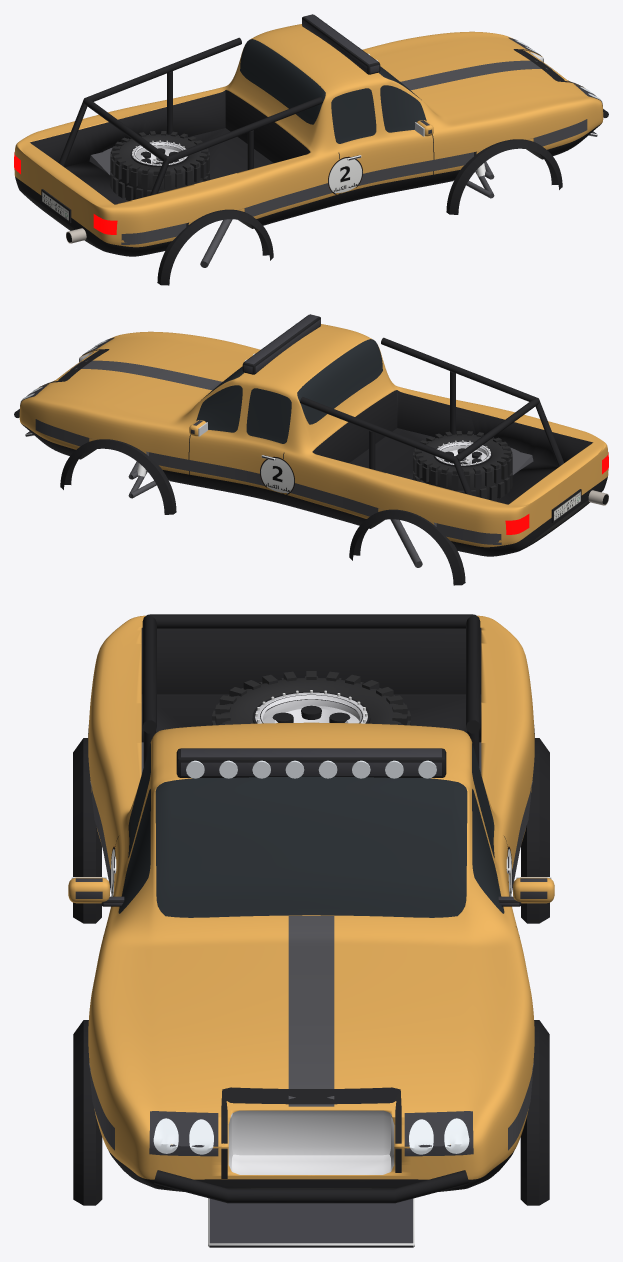
The model's file is SM_DuneFox_Body.fbx.
3 views of the same model, one above another, from view 1: azimuth 30°, elevation 25°; view 2: azimuth 150°, elevation 25°; view 3: azimuth 270°, elevation 25° (orthographic). The views are drawn at different scales.
Visible parts, largest first — view 1: SM_DuneFox_Body; view 2: SM_DuneFox_Body; view 3: SM_DuneFox_Body.
Boxes of the visible parts, <box> form: SM_DuneFox_Body: <box>14,14,608,285</box>; SM_DuneFox_Body: <box>14,314,608,585</box>; SM_DuneFox_Body: <box>68,614,554,1247</box>.
Bounding box in the file's own units: 594 × 164 × 234.
